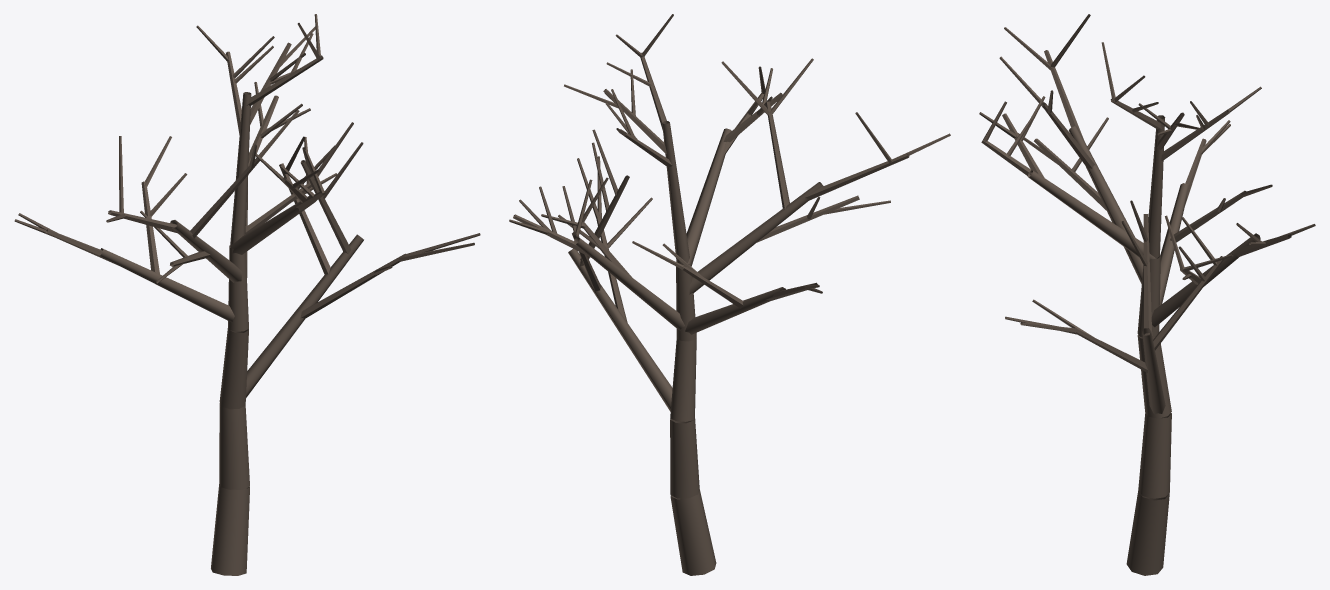
Rendered from ZR_TreeBare_B.fbx.
The picture shows the model from 3 angles, left to right: view 1: azimuth 30°, elevation 25°; view 2: azimuth 150°, elevation 25°; view 3: azimuth 270°, elevation 25°; orthographic projection. The views are drawn at different scales.
Visible parts, largest first — view 1: ZR_TreeBare_B; view 2: ZR_TreeBare_B; view 3: ZR_TreeBare_B.
Boxes of the visible parts, x1,y1,x2,y2 form: ZR_TreeBare_B: (14, 14, 480, 575); ZR_TreeBare_B: (509, 14, 950, 575); ZR_TreeBare_B: (979, 14, 1315, 575).
Bounding box in the file's own units: 4.28 × 5.93 × 3.29.
